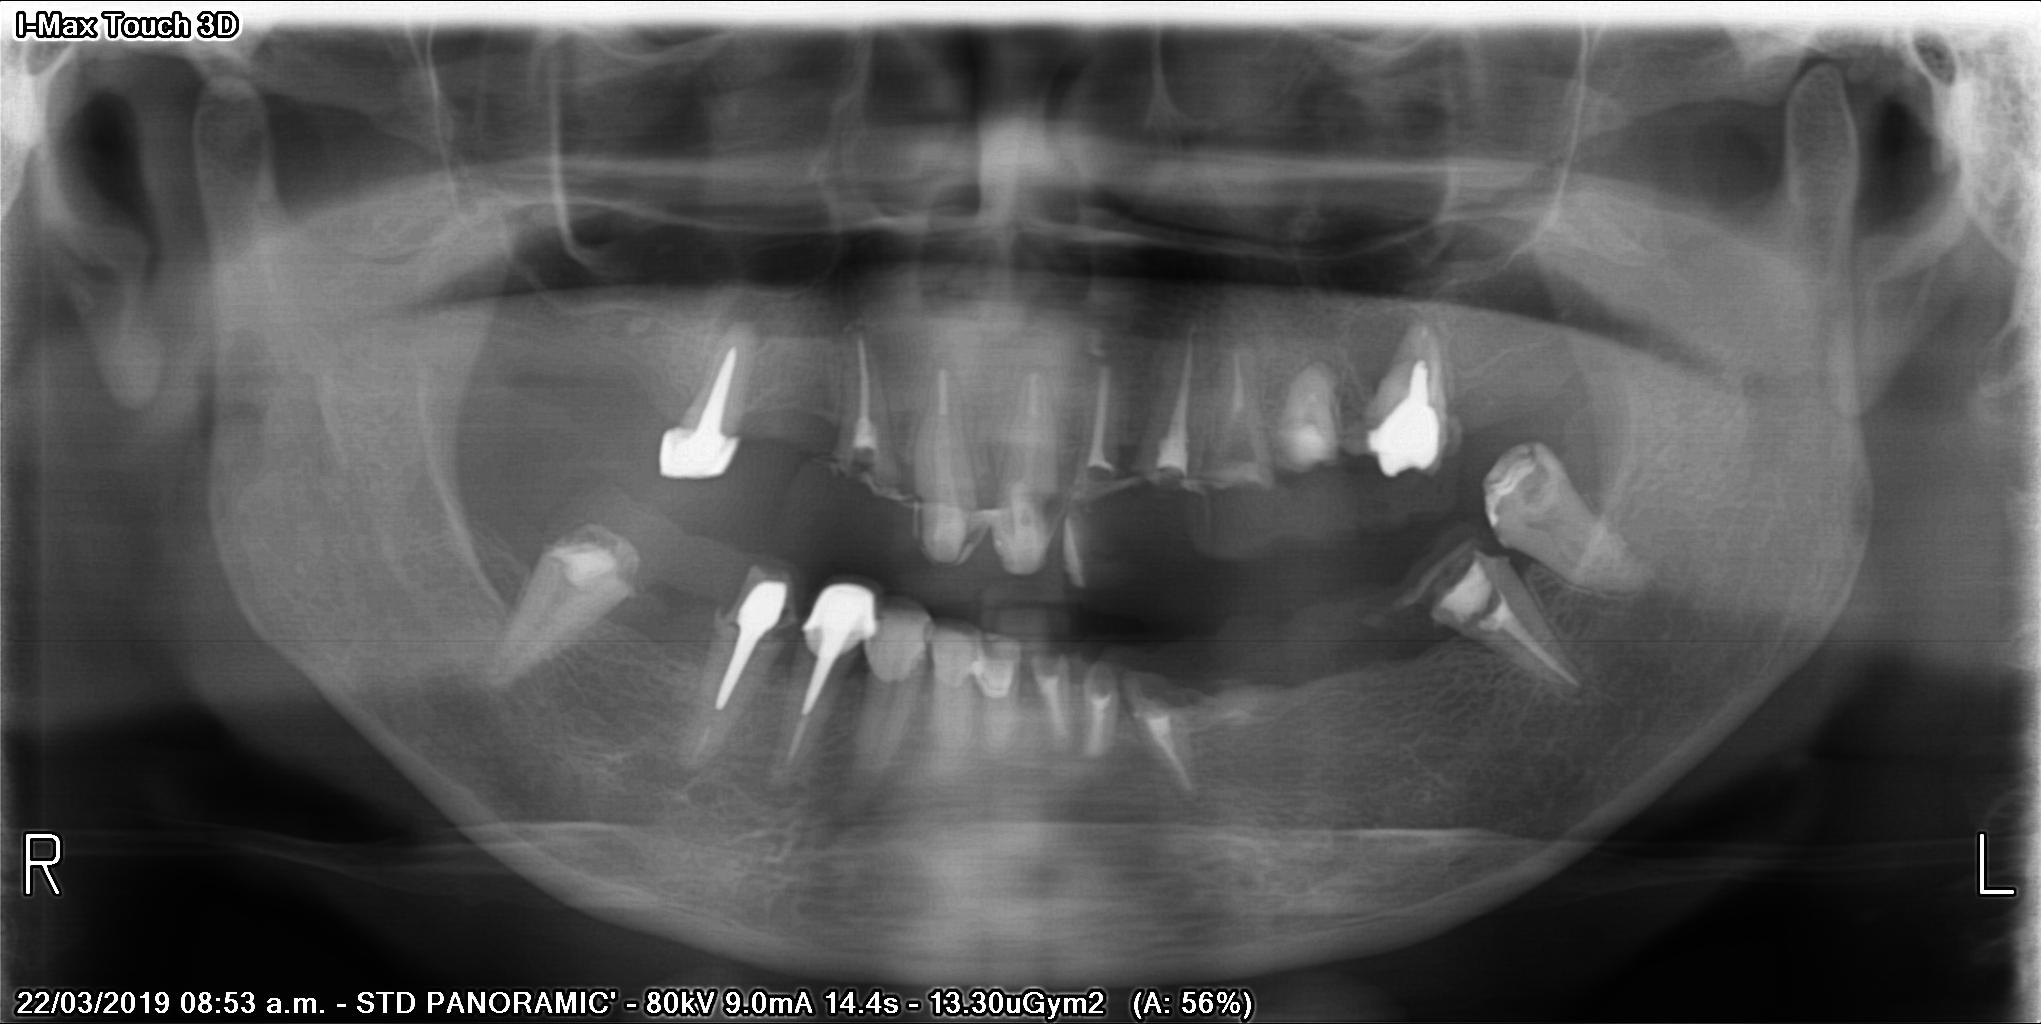Çürük: (650, 325, 747, 485), (1358, 354, 1453, 482), (790, 564, 884, 671), (1476, 431, 1559, 532), (1425, 549, 1512, 631), (703, 573, 797, 649), (542, 528, 624, 590)
Çürük Bölgesi: (1506, 466, 1576, 512), (844, 451, 887, 486)
